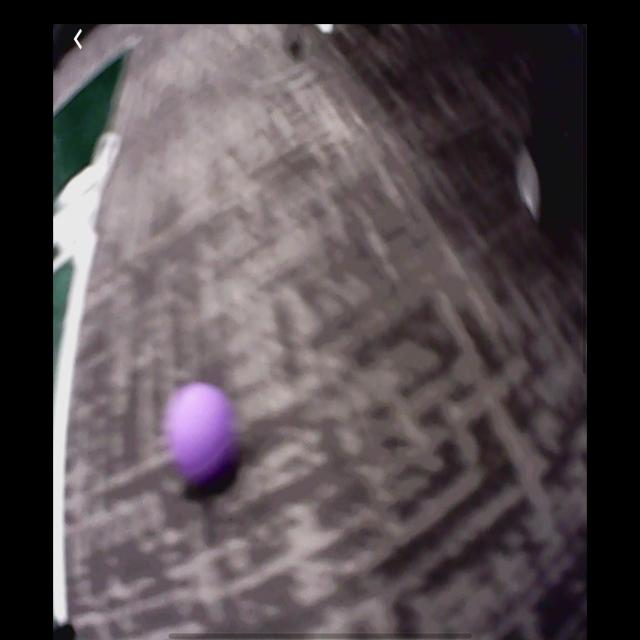ball: (167, 383, 235, 494)
